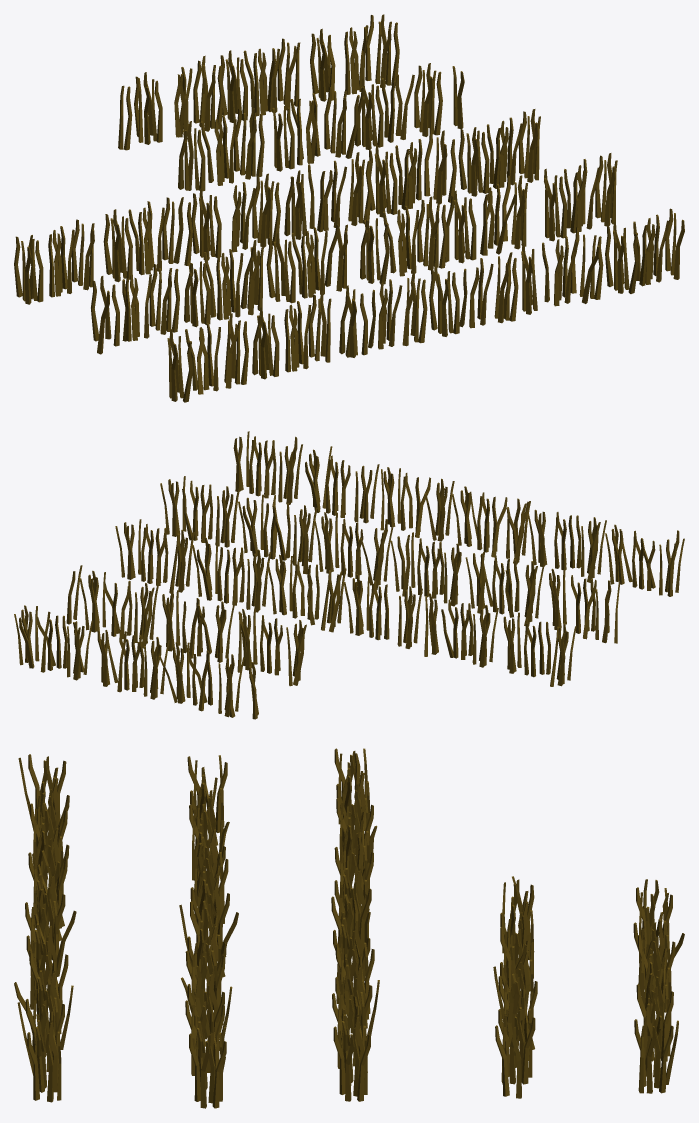
File: Farm_SecondAge_Level3_Wheat.obj
3 renders of one model, top to bottom at view 1: azimuth 30°, elevation 25°; view 2: azimuth 150°, elevation 25°; view 3: azimuth 270°, elevation 25°, orthographic. The views are drawn at different scales.
Visible parts, largest first — view 1: Farm_SecondAge_Level3_Wheat_Plane; view 2: Farm_SecondAge_Level3_Wheat_Plane; view 3: Farm_SecondAge_Level3_Wheat_Plane.
Boxes of the visible parts, <box> form: Farm_SecondAge_Level3_Wheat_Plane: <box>14,14,684,402</box>; Farm_SecondAge_Level3_Wheat_Plane: <box>14,431,684,719</box>; Farm_SecondAge_Level3_Wheat_Plane: <box>14,748,684,1108</box>.
Bounding box in the file's own units: 1.51 × 0.1883 × 1.46.
